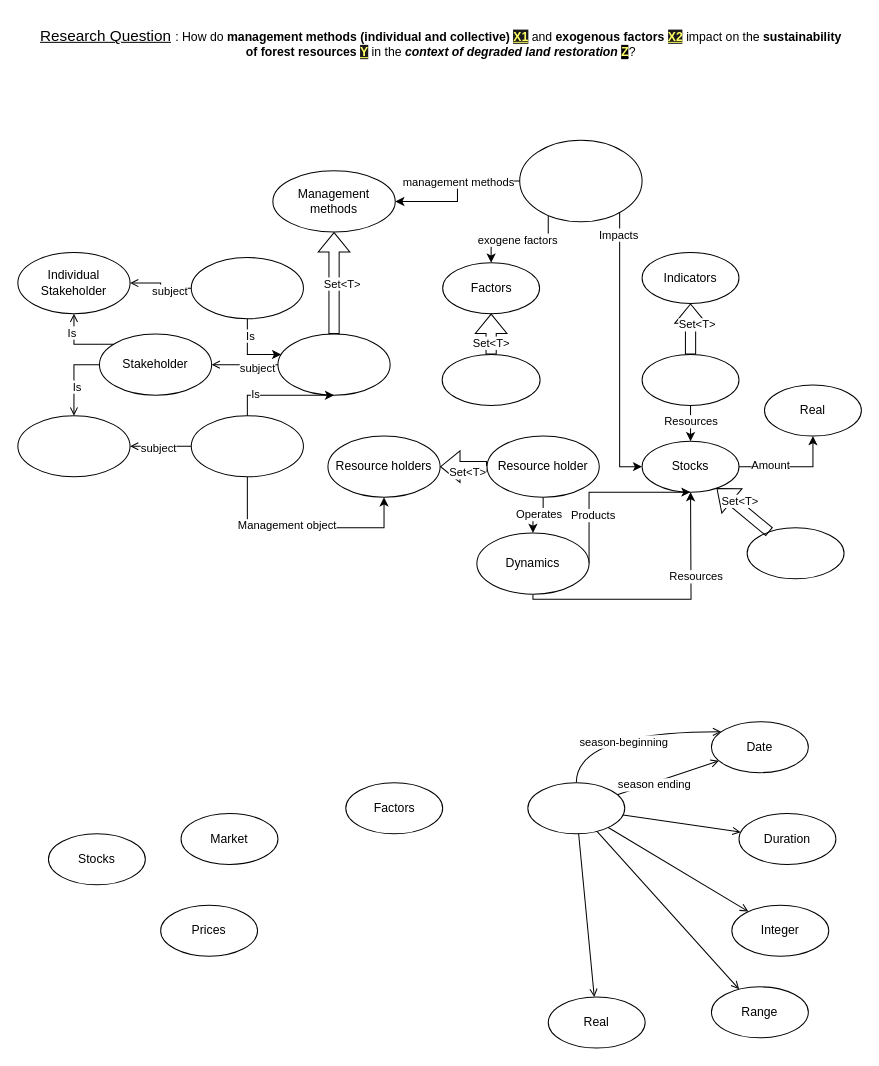
Some shapes in this 879 by 1066 pixel diagram are drawn without their labels. The shapes that lost their labels are listed below. From the top down, each one's centre as x and y in pixels, then its label:
[580,180]: Management methods X Factors
[246,288]: Individual Management method
[333,364]: Management method
[490,379]: Factor
[690,379]: Indicator
[73,446]: Collective Stakeholder
[246,446]: Collective Management method
[795,553]: Stock
[576,808]: Climate
